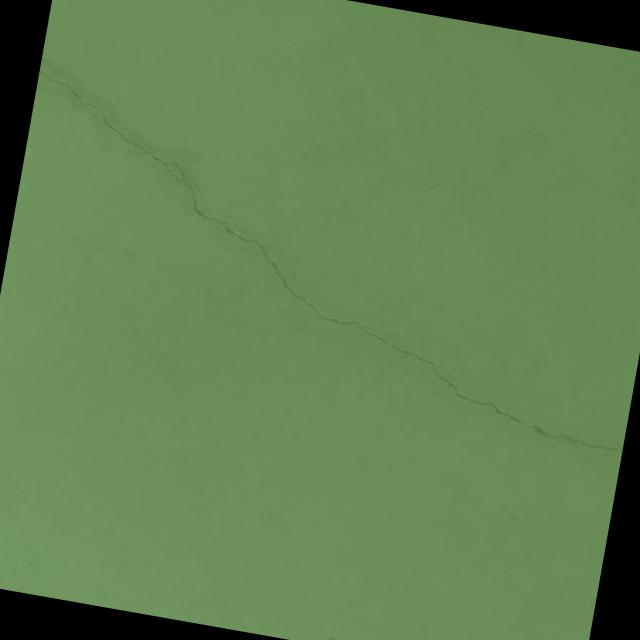crack: (0, 66, 640, 452)
